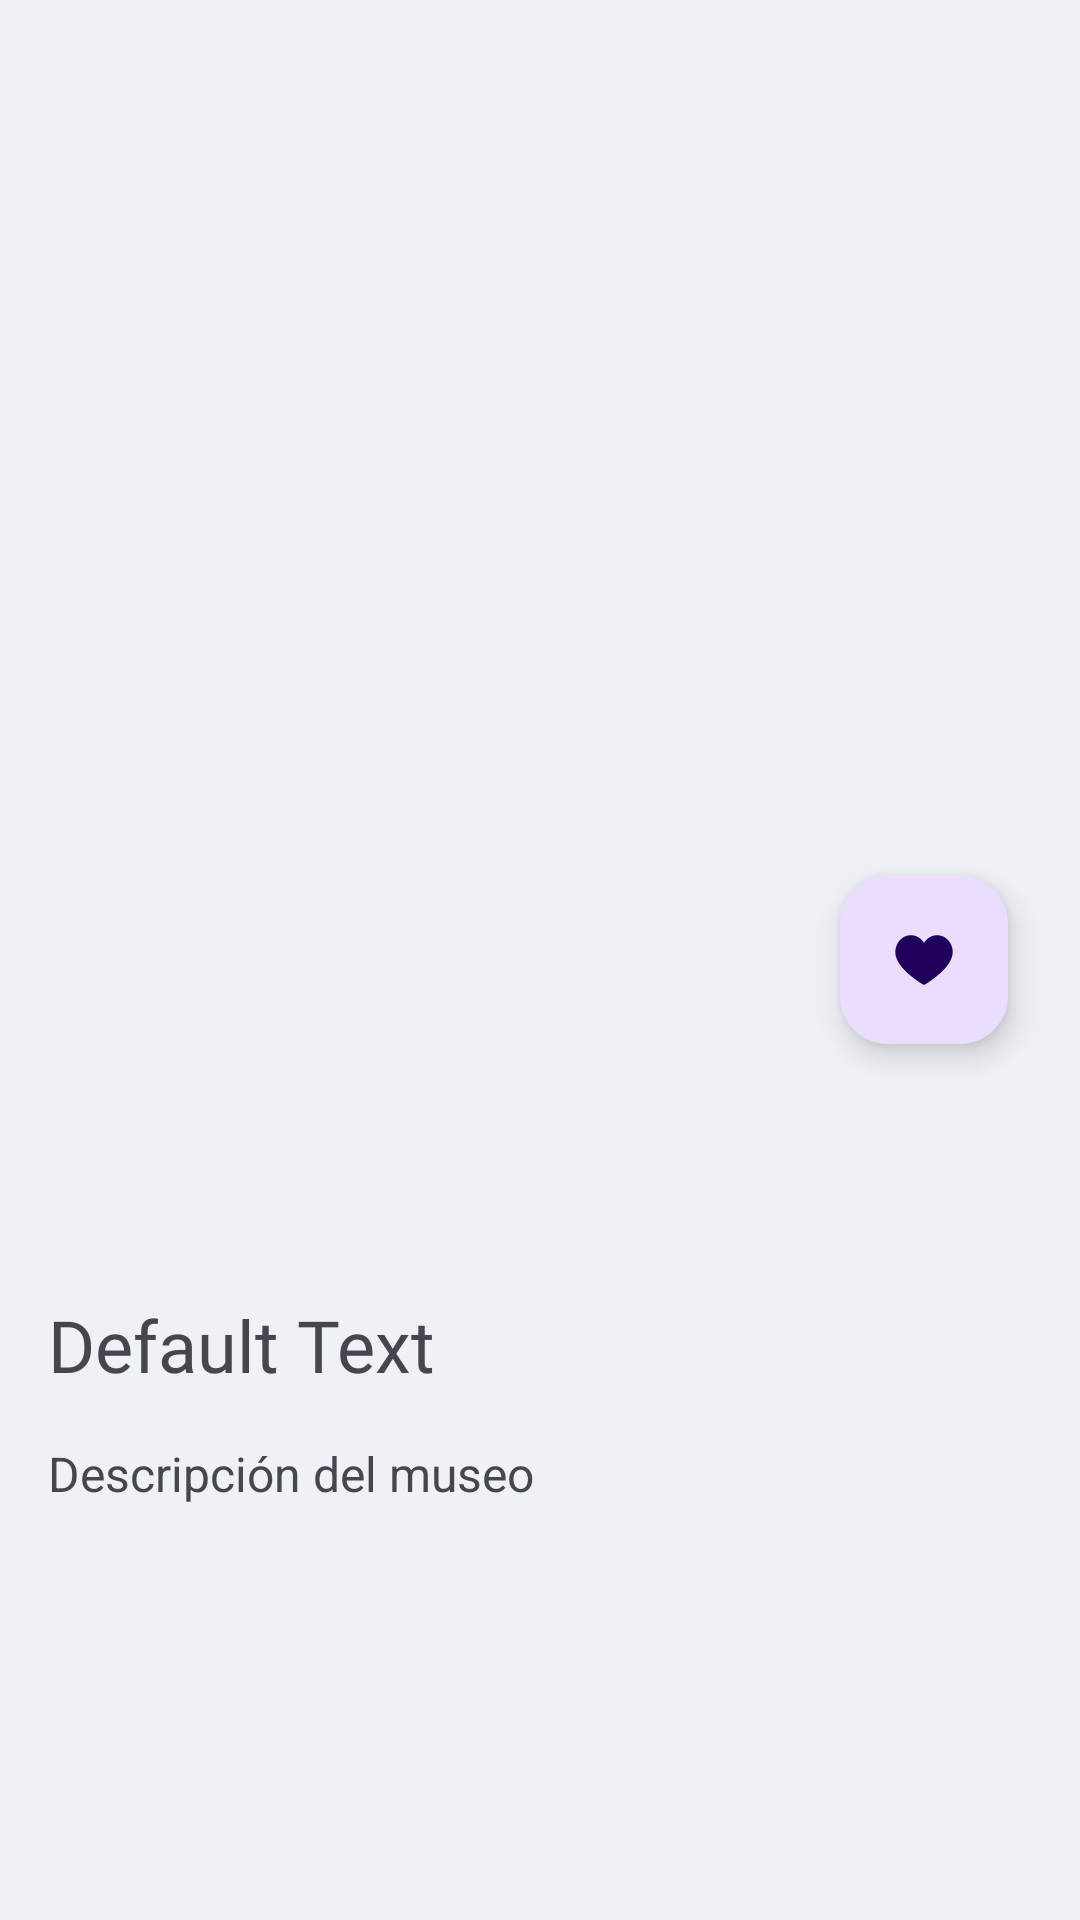

Icons on this 1080×1920 Android screen, each with the point to tap as point (x, y):
heart: point (924, 960)
